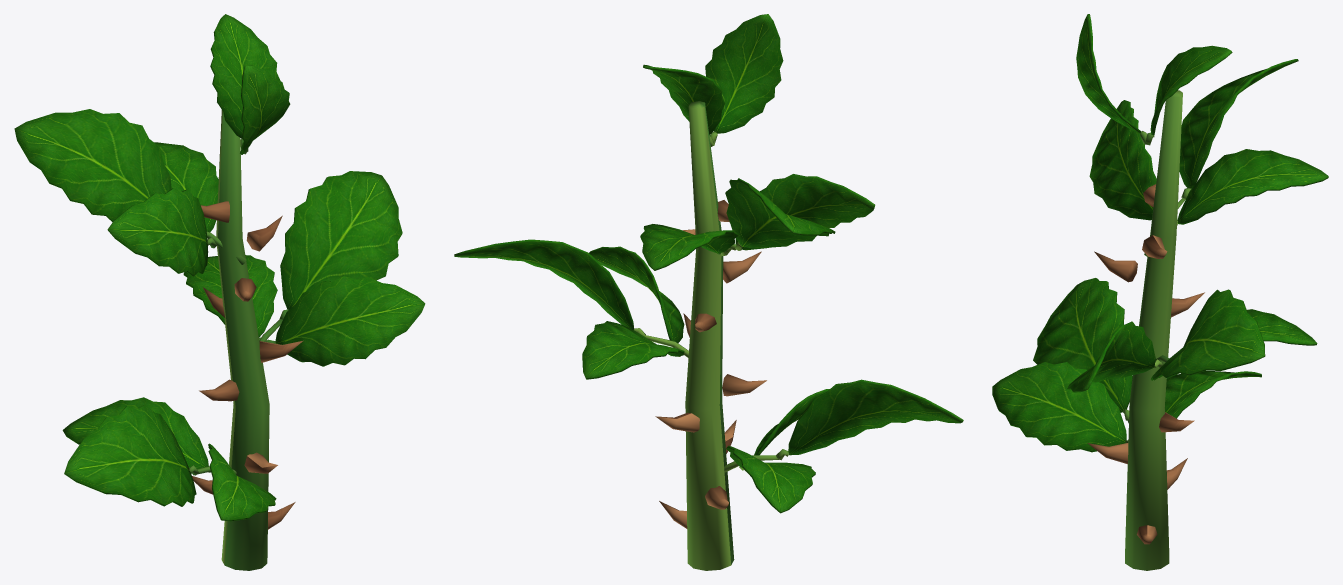
File: NP_Rose_Young_LOD1.fbx
3 views of the same model, side by side, from view 1: azimuth 30°, elevation 25°; view 2: azimuth 150°, elevation 25°; view 3: azimuth 270°, elevation 25° (orthographic).
Parts seen in each view (by area): view 1: NP_Rose_Young; view 2: NP_Rose_Young; view 3: NP_Rose_Young.
Part boxes in pixels (x1,y1,x2,y2): NP_Rose_Young: [14, 14, 425, 570]; NP_Rose_Young: [454, 14, 963, 570]; NP_Rose_Young: [992, 14, 1328, 570].
Bounding box in the file's own units: 34.96 × 42.76 × 24.45.
